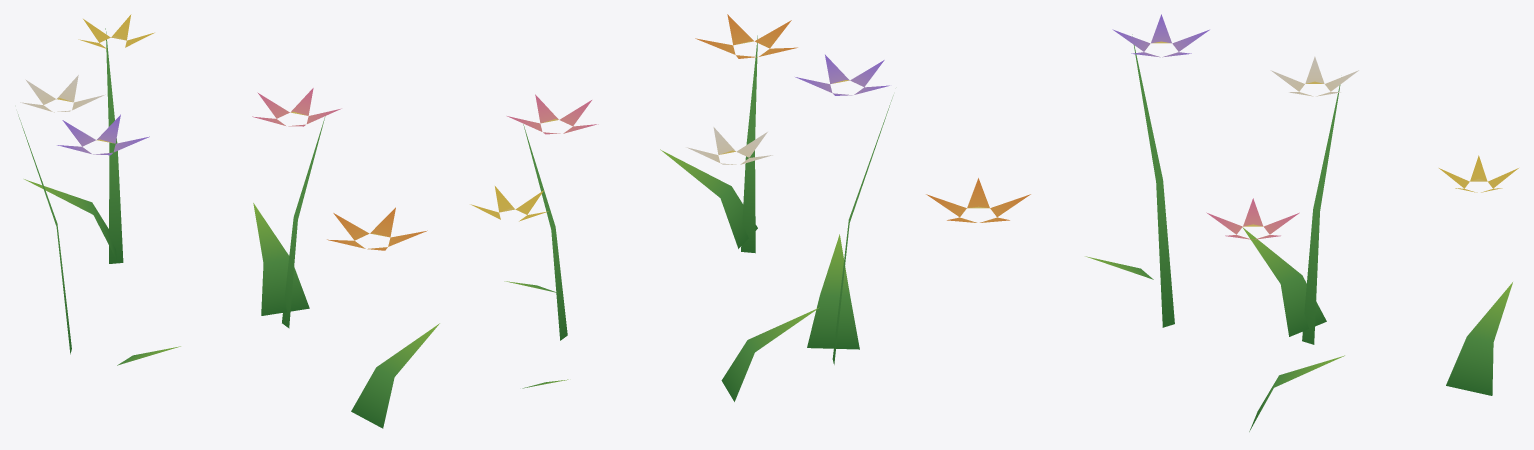
Rendered from dress_flower.glb.
3 renders of one model, left to right at view 1: azimuth 30°, elevation 25°; view 2: azimuth 150°, elevation 25°; view 3: azimuth 270°, elevation 25°, orthographic. The views are drawn at different scales.
Parts seen in each view (by area): view 1: flower; view 2: flower; view 3: flower.
Part boxes in pixels (<box>): flower: <box>18,14,439,428</box>; flower: <box>470,14,893,401</box>; flower: <box>926,14,1518,431</box>.
Bounding box in the file's own units: 0.4942 × 0.4181 × 0.7884.
